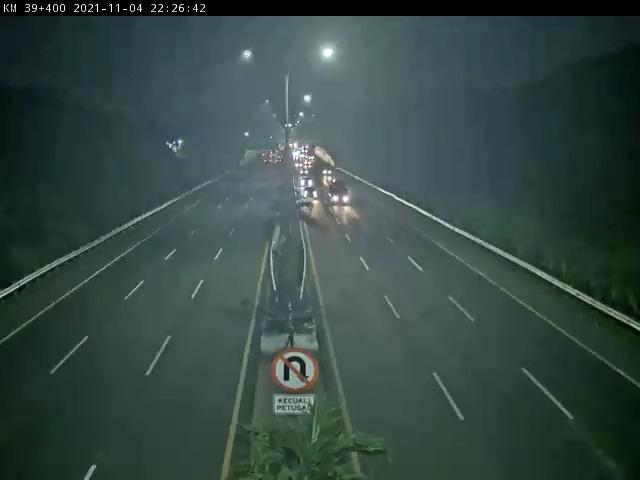car: (328, 179, 348, 203)
